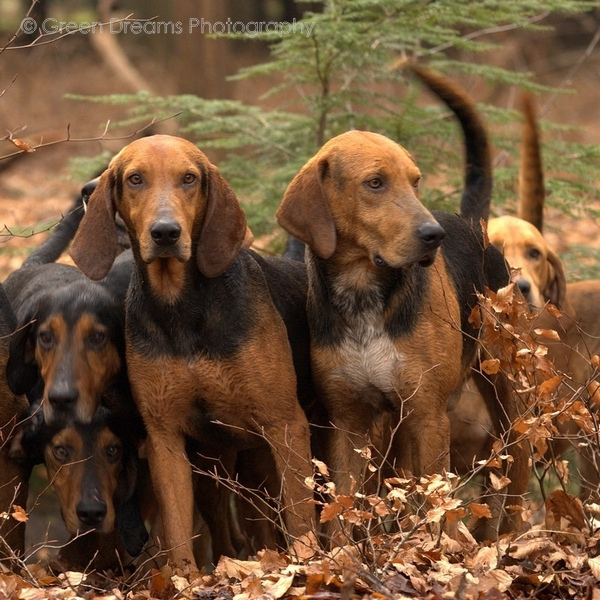dog: (56, 121, 338, 569), (265, 125, 511, 515), (4, 180, 132, 425), (25, 397, 149, 538)
